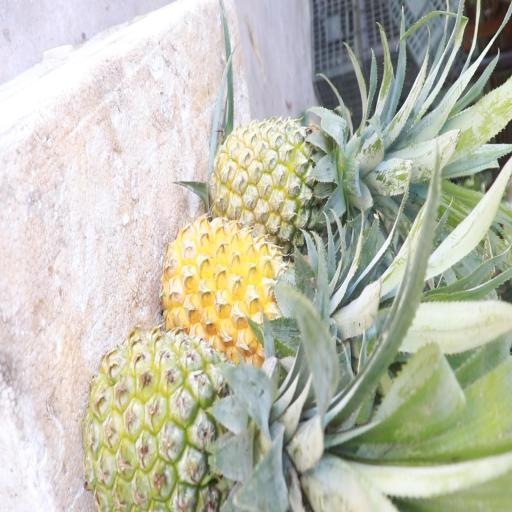------------------------------: (89, 333, 295, 512), (212, 110, 356, 244)
Pineapple - v8 v1: (162, 216, 327, 371)
